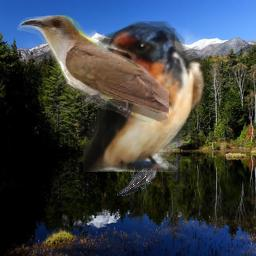Cuckoo: (17, 15, 169, 127)
Swallow: (83, 21, 207, 172), (117, 155, 163, 196)
